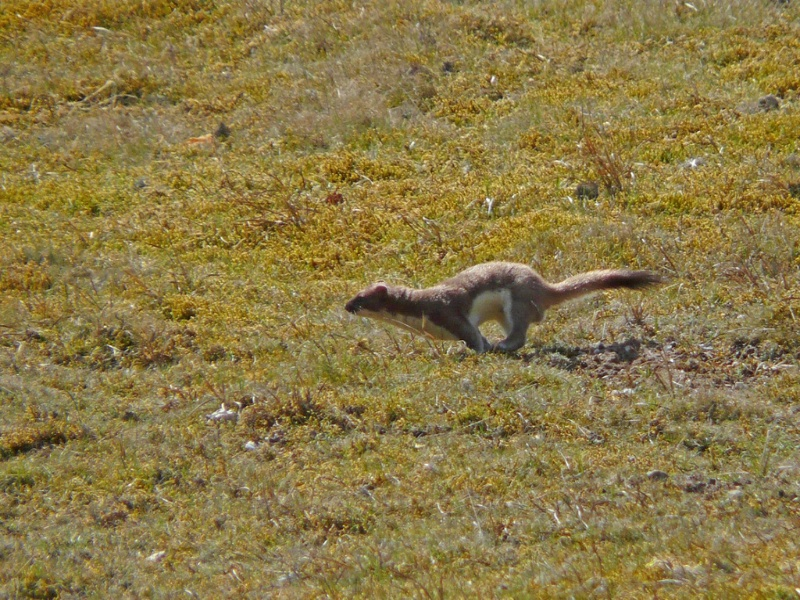minkish: (342, 255, 665, 363)
